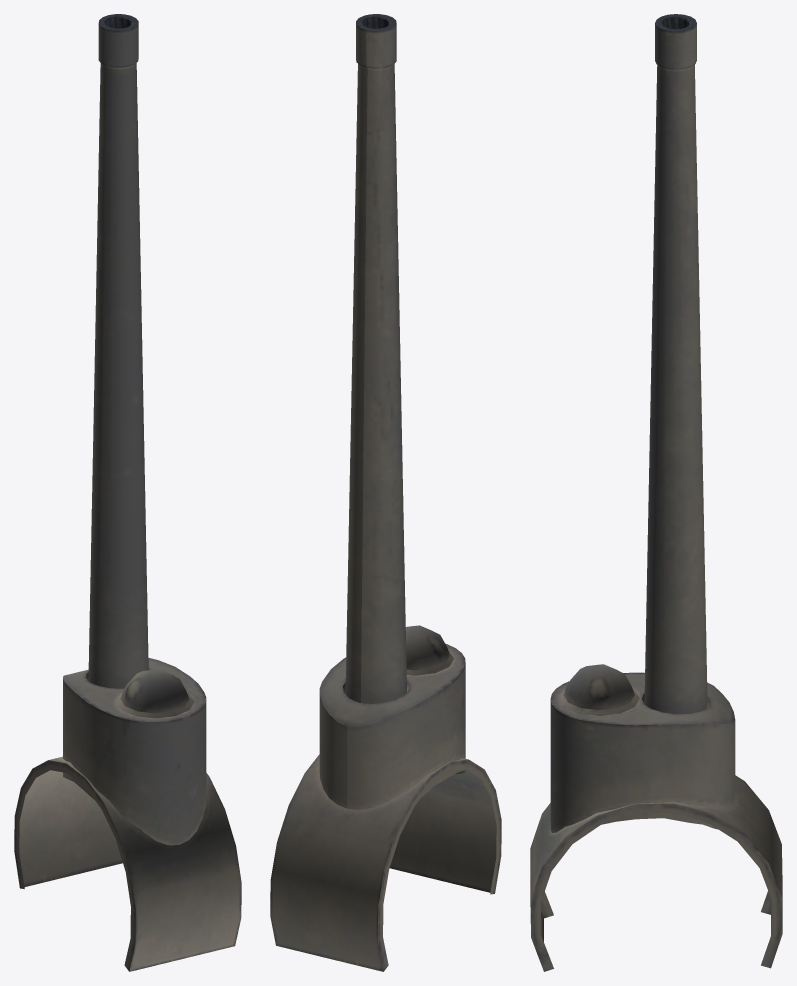
Rendered from Gun_01.glb.
3 renders of one model, left to right at view 1: azimuth 30°, elevation 25°; view 2: azimuth 150°, elevation 25°; view 3: azimuth 270°, elevation 25°, orthographic. The views are drawn at different scales.
Parts seen in each view (by area): view 1: set_0_group_0; view 2: set_0_group_0; view 3: set_0_group_0.
Boxes of the visible parts, x1=… form: set_0_group_0: x1=14, y1=14, x2=241, y2=971; set_0_group_0: x1=270, y1=14, x2=501, y2=971; set_0_group_0: x1=530, y1=14, x2=782, y2=971.
Size of the model in its own units: 0.1782 by 1.43 by 0.3553.
Materials: 1 (1 with a texture image).
